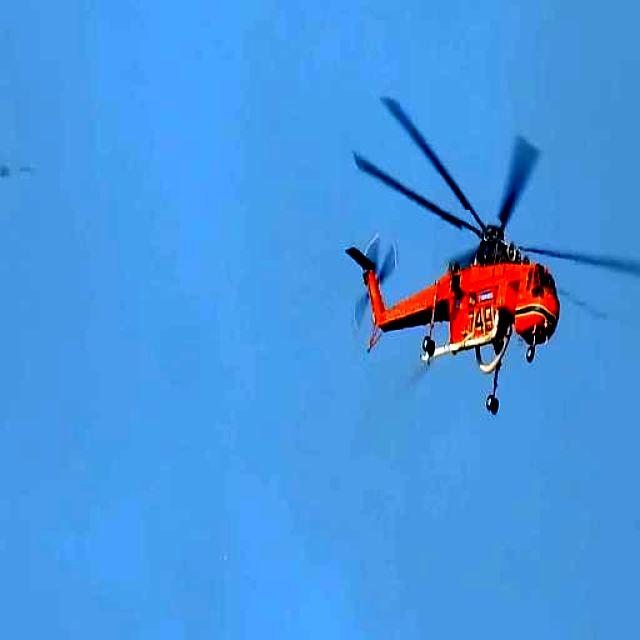drone: (340, 85, 640, 420)
